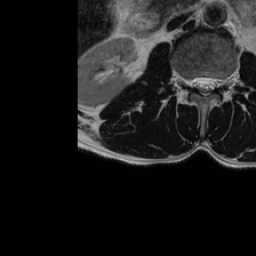CCS_normal: (202, 68, 210, 102)
LFS_normal: (218, 69, 226, 95)
LLS_normal: (210, 69, 218, 96)
RFS_normal: (185, 69, 193, 95)
RLS_normal: (193, 68, 202, 98)
